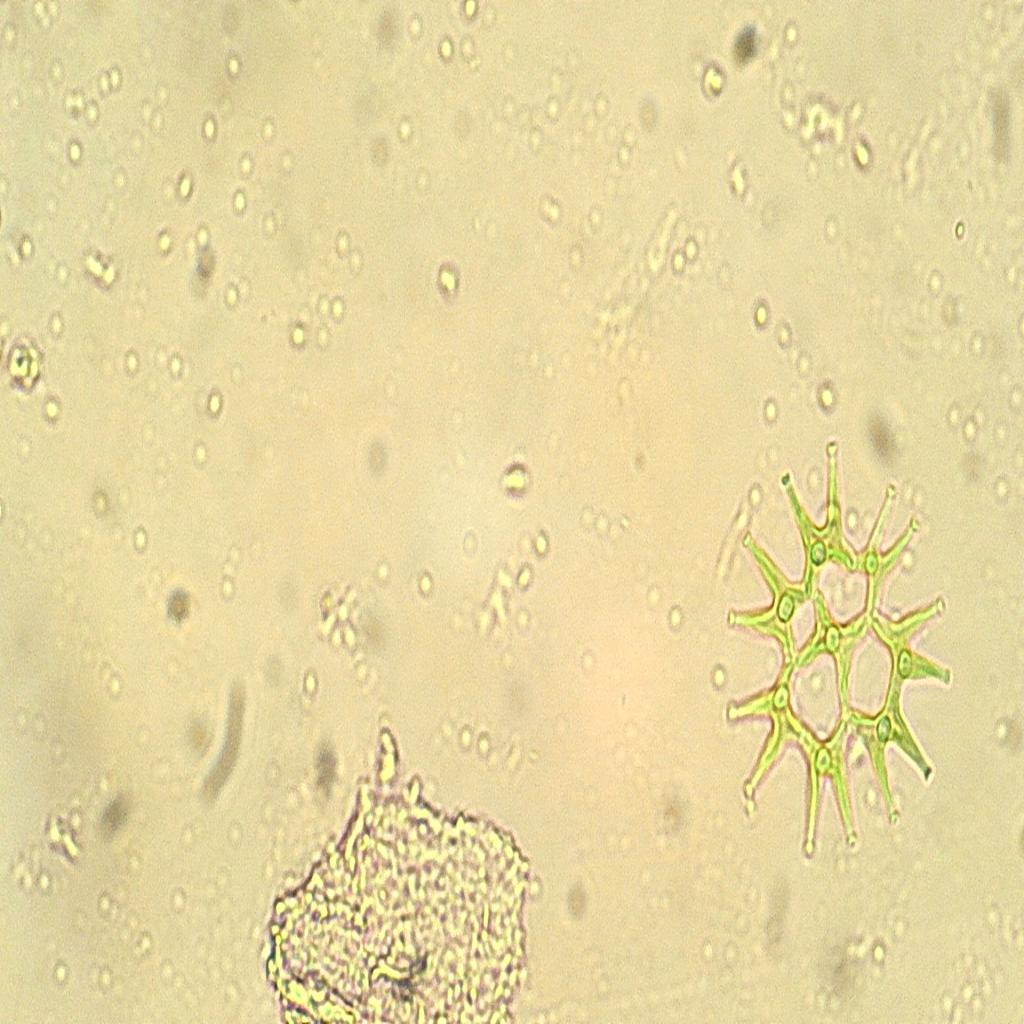Pediastrum_1T: (712, 416, 959, 895)
